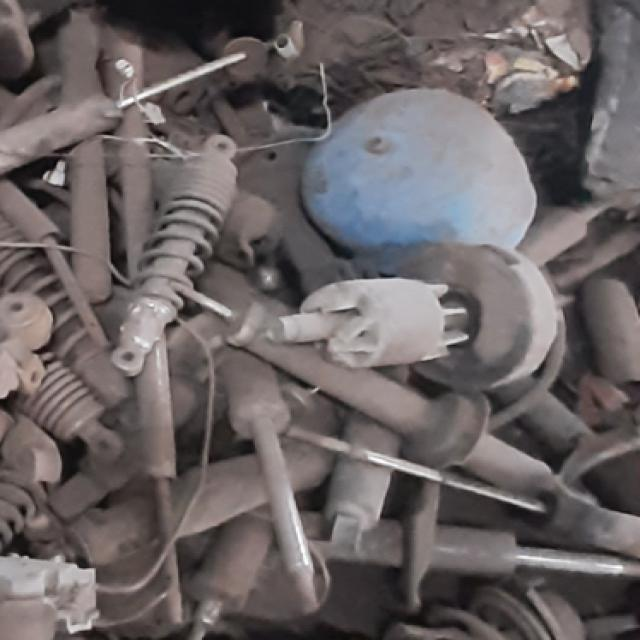cylinder: (302, 90, 536, 257)
shock absorber: (1, 50, 248, 173), (111, 134, 237, 373), (1, 214, 130, 408)
